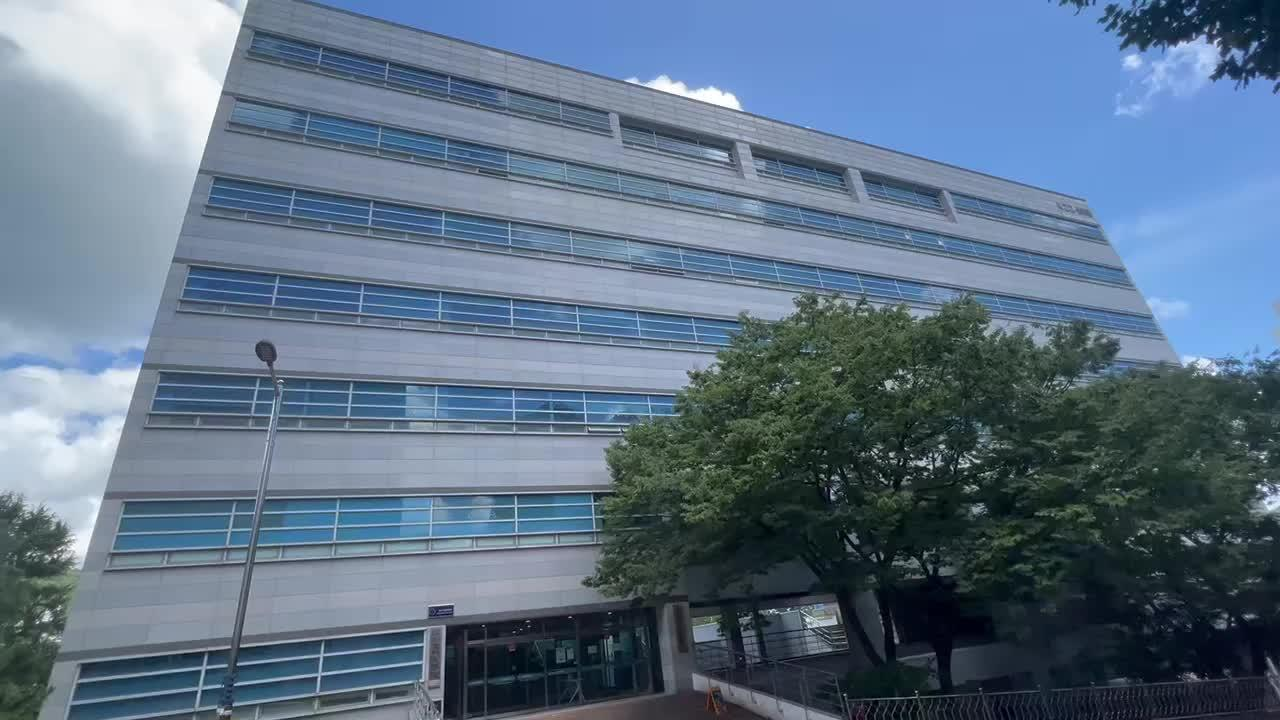building: (168, 13, 585, 720)
